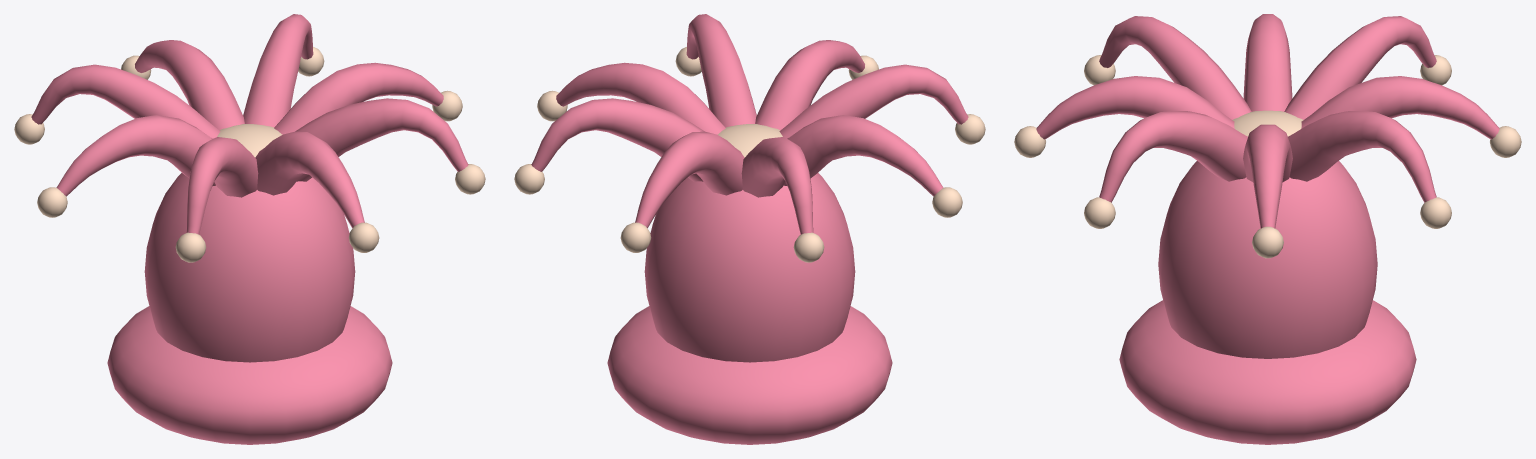
Rendered from polyp.glb.
3 renders of one model, left to right at view 1: azimuth 30°, elevation 25°; view 2: azimuth 150°, elevation 25°; view 3: azimuth 270°, elevation 25°, orthographic. The views are drawn at different scales.
Parts seen in each view (by area): view 1: polyp_textured_mesh; view 2: polyp_textured_mesh; view 3: polyp_textured_mesh.
Part boxes in pixels (x1,y1,x2,y2): polyp_textured_mesh: (14, 14, 485, 444); polyp_textured_mesh: (514, 14, 985, 444); polyp_textured_mesh: (1014, 14, 1521, 444).
Size of the model in its own units: 2.22 by 1.68 by 2.22.
1 material, 1 textured.
